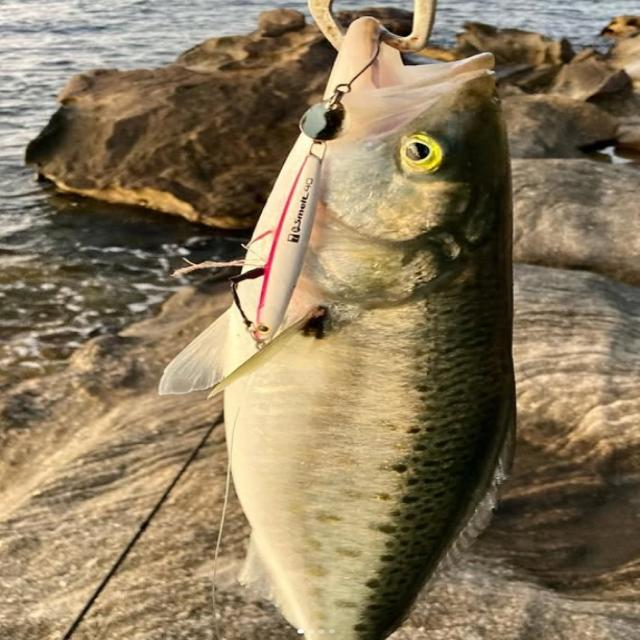Australian Salmon: (151, 8, 541, 640)
